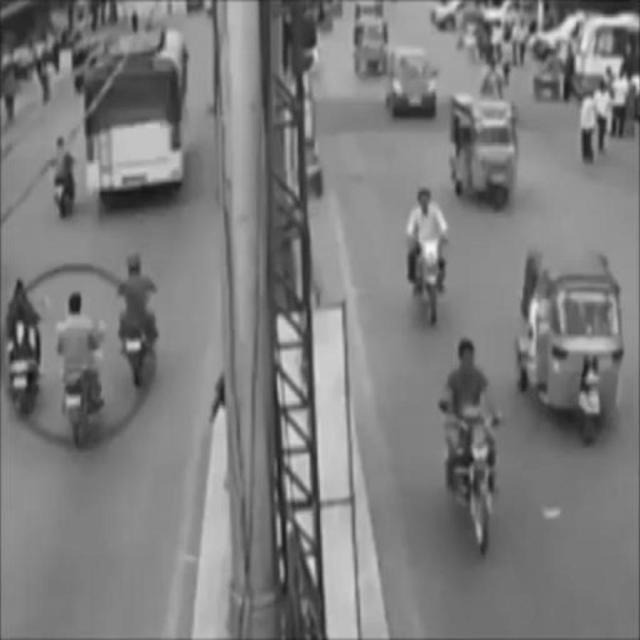person: (577, 92, 599, 162)
vehicle: (518, 246, 620, 444), (91, 24, 189, 204), (434, 333, 502, 554), (52, 289, 107, 449), (450, 95, 517, 208), (117, 250, 157, 390), (409, 185, 450, 319), (4, 272, 36, 406), (389, 44, 436, 117), (49, 133, 79, 224), (354, 17, 389, 81)
